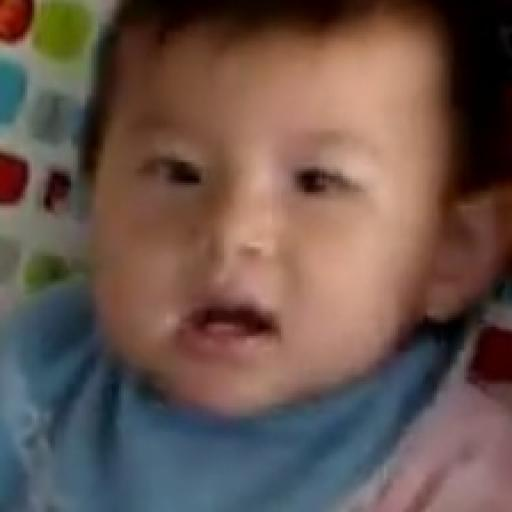Autism: (73, 0, 512, 480)
